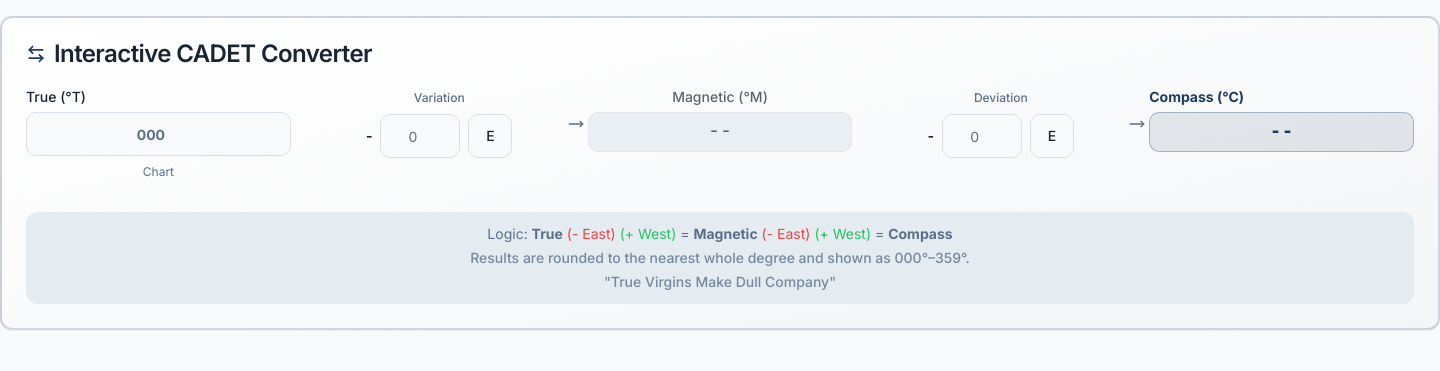
Test: CompassConverter › validates {} bounds
In the number field named "True heading": (158, 134) [26,112,291,156], type "360"
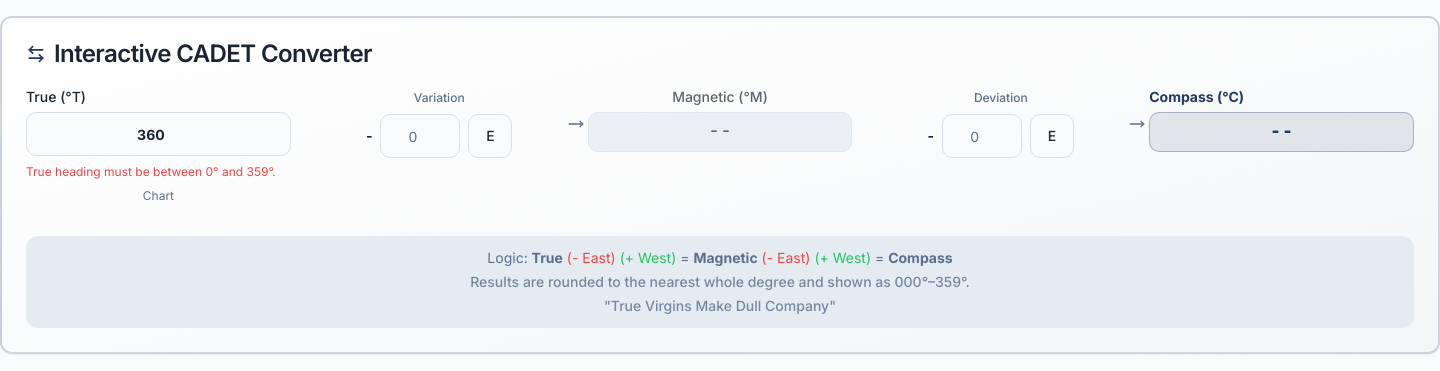
expect the message reads "True heading must be between 0° and 359°.": met, box [26,164,276,179]
